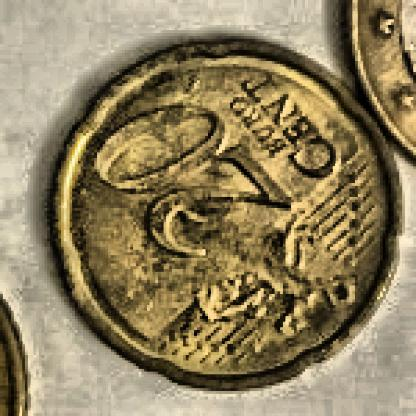coin: (43, 42, 399, 390)
